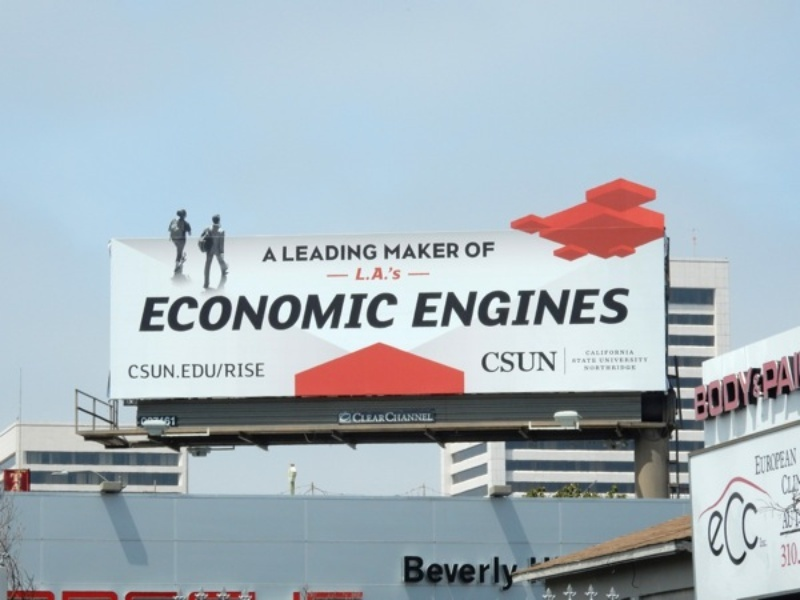text: (721, 489, 736, 567), (737, 489, 752, 567), (705, 351, 720, 425), (721, 351, 736, 425), (737, 351, 752, 425), (753, 351, 768, 425), (769, 351, 784, 425), (706, 489, 720, 567), (691, 351, 704, 425), (785, 351, 798, 425), (433, 287, 448, 330), (449, 287, 464, 330), (465, 287, 480, 330), (481, 287, 496, 330), (497, 287, 512, 330), (513, 287, 528, 330), (529, 287, 544, 330), (545, 287, 560, 330), (561, 287, 576, 330), (577, 287, 592, 330), (593, 287, 608, 330), (609, 287, 624, 330), (145, 291, 160, 333), (161, 291, 176, 333), (177, 291, 192, 333), (193, 291, 208, 333), (209, 291, 224, 333), (225, 291, 240, 333), (241, 291, 256, 333), (257, 291, 272, 333), (273, 291, 288, 333), (289, 291, 304, 333), (305, 291, 320, 333), (321, 291, 336, 333), (337, 291, 352, 333), (353, 291, 368, 333), (369, 291, 384, 333), (753, 489, 761, 567), (418, 287, 432, 330), (385, 291, 399, 333), (417, 554, 432, 593), (433, 554, 448, 593), (449, 554, 464, 593), (465, 554, 480, 593), (481, 554, 496, 593), (497, 554, 512, 593), (402, 554, 416, 593), (769, 446, 784, 475), (785, 539, 799, 570), (754, 446, 768, 475), (785, 446, 798, 475), (481, 350, 496, 374), (497, 350, 512, 374), (513, 350, 528, 374), (529, 350, 544, 374), (545, 350, 559, 374), (481, 241, 497, 261), (289, 243, 304, 263), (305, 243, 320, 263), (321, 243, 336, 263), (337, 243, 352, 263), (353, 243, 368, 263), (465, 241, 480, 261), (385, 242, 400, 261), (401, 242, 416, 261), (417, 242, 432, 261), (433, 242, 448, 261), (129, 362, 144, 381), (145, 362, 160, 381), (161, 362, 176, 381), (177, 362, 192, 381), (193, 362, 208, 381), (209, 362, 224, 381), (225, 362, 240, 381), (241, 362, 256, 381), (369, 265, 384, 283), (385, 265, 400, 283), (625, 287, 631, 330), (354, 265, 368, 283), (449, 242, 462, 261), (513, 554, 519, 593), (785, 507, 794, 533), (785, 474, 795, 497), (161, 415, 177, 429), (777, 539, 784, 570), (145, 415, 160, 429), (17, 471, 26, 494), (369, 243, 379, 263), (353, 411, 368, 423), (369, 411, 384, 423), (385, 411, 400, 423), (401, 411, 416, 423), (417, 411, 432, 423), (257, 362, 266, 381), (262, 246, 272, 263), (9, 471, 16, 494), (282, 243, 288, 263), (593, 349, 608, 357), (609, 349, 624, 357), (609, 357, 624, 365), (625, 357, 640, 365), (593, 365, 608, 373), (609, 365, 624, 373), (625, 365, 639, 373), (577, 358, 592, 365), (625, 349, 637, 357), (599, 357, 608, 365), (641, 357, 650, 365), (583, 365, 592, 373), (781, 474, 784, 497), (273, 246, 277, 263), (782, 507, 784, 533), (586, 349, 592, 357), (141, 415, 144, 429), (571, 358, 576, 365), (593, 358, 597, 365), (383, 242, 384, 261), (127, 362, 128, 381), (401, 265, 402, 283), (433, 411, 434, 423)
